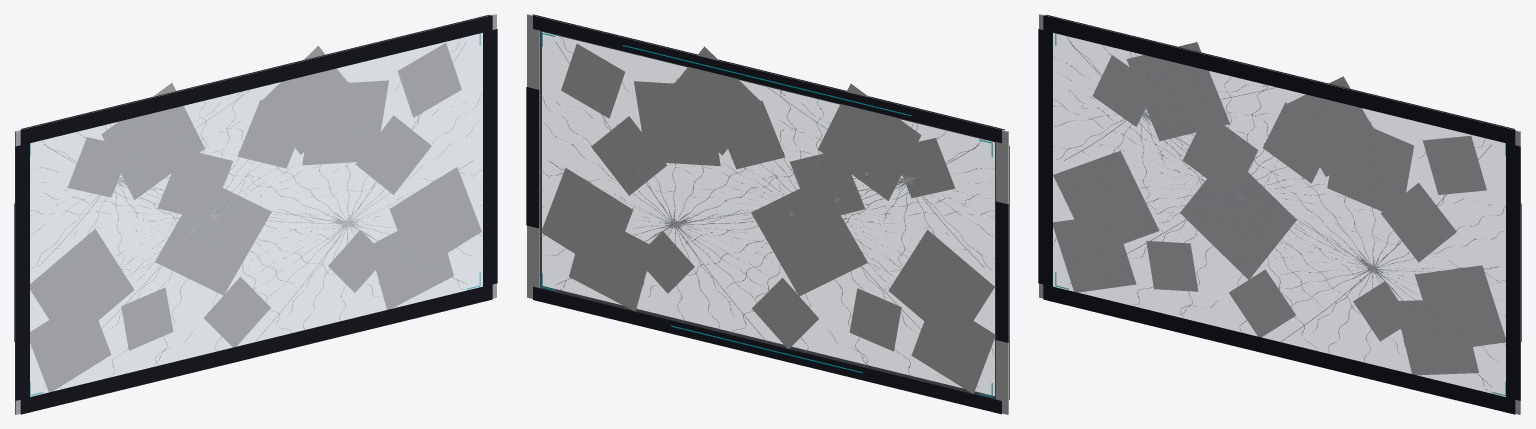
The model's file is screen_decals_spider_web_overlay_4.obj.
The picture shows the model from 3 angles, left to right: view 1: azimuth 30°, elevation 25°; view 2: azimuth 150°, elevation 25°; view 3: azimuth 330°, elevation 25°; orthographic projection.
Visible parts, largest first — view 1: Translucent_Clear_Screen, Solid_Back_Panel, Decal_MissileStrike_01, Decal_MissileStrike_03, Decal_MissileStrike_04, Decal_BrokenSpiderWeb_Screen, Decal_MissileStrike_05, Decal_MissileStrike_02, Decal_MissileStrike_08, Decal_MissileStrike_06, Decal_MissileStrike_07, Decal_LaserBurn_04 (+9 smaller); view 2: Translucent_Clear_Screen, Solid_Front_Panel, Decal_MissileStrike_01, Decal_MissileStrike_03, Decal_BrokenSpiderWeb_Screen, Decal_MissileStrike_05, Decal_MissileStrike_04, Decal_MissileStrike_08, Decal_MissileStrike_02, Frame_005m_Thick, Solid_Back_Panel, Decal_MissileStrike_06 (+11 smaller); view 3: Translucent_Clear_Screen, Solid_Back_Panel, Decal_MissileStrike_01, Decal_MissileStrike_03, Decal_MissileStrike_02, Decal_BrokenSpiderWeb_Screen, Decal_MissileStrike_05, Decal_MissileStrike_06, Decal_MissileStrike_04, Decal_MissileStrike_07, Decal_LaserBurn_04, Decal_LaserBurn_02 (+9 smaller).
Part boxes in pixels (left/top/right/bottom): Translucent_Clear_Screen: left=30, top=33, right=482, bottom=396; Solid_Back_Panel: left=15, top=15, right=497, bottom=414; Decal_MissileStrike_01: left=155, top=188, right=271, bottom=295; Decal_MissileStrike_03: left=30, top=229, right=133, bottom=346; Decal_MissileStrike_04: left=389, top=167, right=481, bottom=273; Decal_BrokenSpiderWeb_Screen: left=30, top=38, right=482, bottom=389; Decal_MissileStrike_05: left=101, top=83, right=204, bottom=199; Decal_MissileStrike_02: left=302, top=80, right=388, bottom=165; Decal_MissileStrike_08: left=263, top=45, right=359, bottom=154; Decal_MissileStrike_06: left=374, top=212, right=453, bottom=309; Decal_MissileStrike_07: left=30, top=295, right=111, bottom=392; Decal_LaserBurn_04: left=158, top=148, right=232, bottom=220; Translucent_Clear_Screen: left=540, top=31, right=995, bottom=398; Solid_Front_Panel: left=526, top=15, right=1008, bottom=414; Decal_MissileStrike_01: left=751, top=179, right=867, bottom=296; Decal_MissileStrike_03: left=888, top=230, right=994, bottom=347; Decal_BrokenSpiderWeb_Screen: left=527, top=36, right=1006, bottom=390; Decal_MissileStrike_05: left=818, top=83, right=921, bottom=200; Decal_MissileStrike_04: left=541, top=167, right=632, bottom=274; Decal_MissileStrike_08: left=663, top=46, right=763, bottom=155; Decal_MissileStrike_02: left=634, top=81, right=720, bottom=166; Frame_005m_Thick: left=527, top=14, right=1008, bottom=414; Solid_Back_Panel: left=532, top=14, right=1009, bottom=399; Decal_MissileStrike_06: left=569, top=213, right=653, bottom=311; Translucent_Clear_Screen: left=1053, top=33, right=1505, bottom=396; Solid_Back_Panel: left=1038, top=15, right=1520, bottom=414; Decal_MissileStrike_01: left=1180, top=172, right=1296, bottom=279; Decal_MissileStrike_03: left=1053, top=151, right=1159, bottom=254; Decal_MissileStrike_02: left=1327, top=114, right=1413, bottom=211; Decal_BrokenSpiderWeb_Screen: left=1053, top=36, right=1505, bottom=392; Decal_MissileStrike_05: left=1126, top=42, right=1229, bottom=140; Decal_MissileStrike_06: left=1399, top=299, right=1478, bottom=375; Decal_MissileStrike_04: left=1415, top=265, right=1505, bottom=346; Decal_MissileStrike_07: left=1053, top=214, right=1136, bottom=292; Decal_LaserBurn_04: left=1182, top=112, right=1257, bottom=197; Decal_LaserBurn_02: left=1381, top=183, right=1456, bottom=262.
Bounding box in the file's own units: 1.6 × 0.9391 × 0.0091.
Materials: 8 (1 with a texture image).
